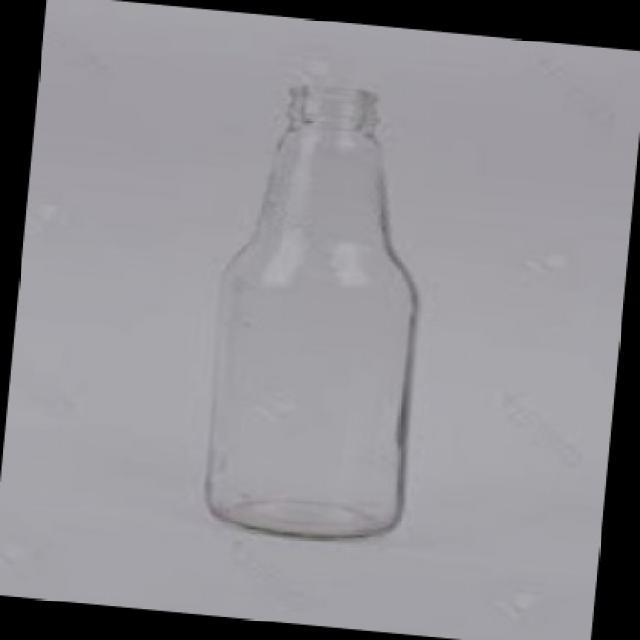Glass: (205, 86, 419, 540)
